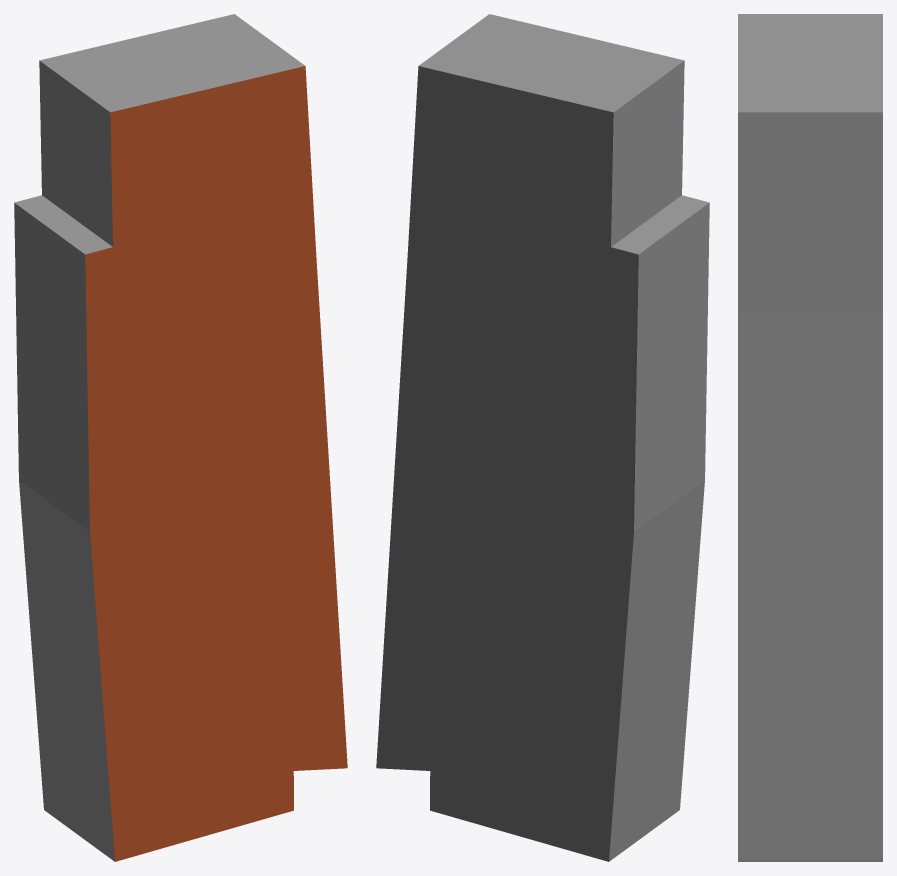
The model's file is construction_0986_assumed_A_Casa_h6m.obj.
3 views of the same model, side by side, from view 1: azimuth 30°, elevation 25°; view 2: azimuth 150°, elevation 25°; view 3: azimuth 270°, elevation 25° (orthographic).
Visible parts, largest first — view 1: construction_0986_assumed_A_Casa; view 2: construction_0986_assumed_A_Casa; view 3: construction_0986_assumed_A_Casa.
Part boxes in pixels (box(x1,y1,x2,y2)): construction_0986_assumed_A_Casa: box(14, 14, 347, 861); construction_0986_assumed_A_Casa: box(376, 14, 709, 861); construction_0986_assumed_A_Casa: box(738, 14, 882, 861).
Size of the model in its own units: 12.8 by 34.98 by 6.
